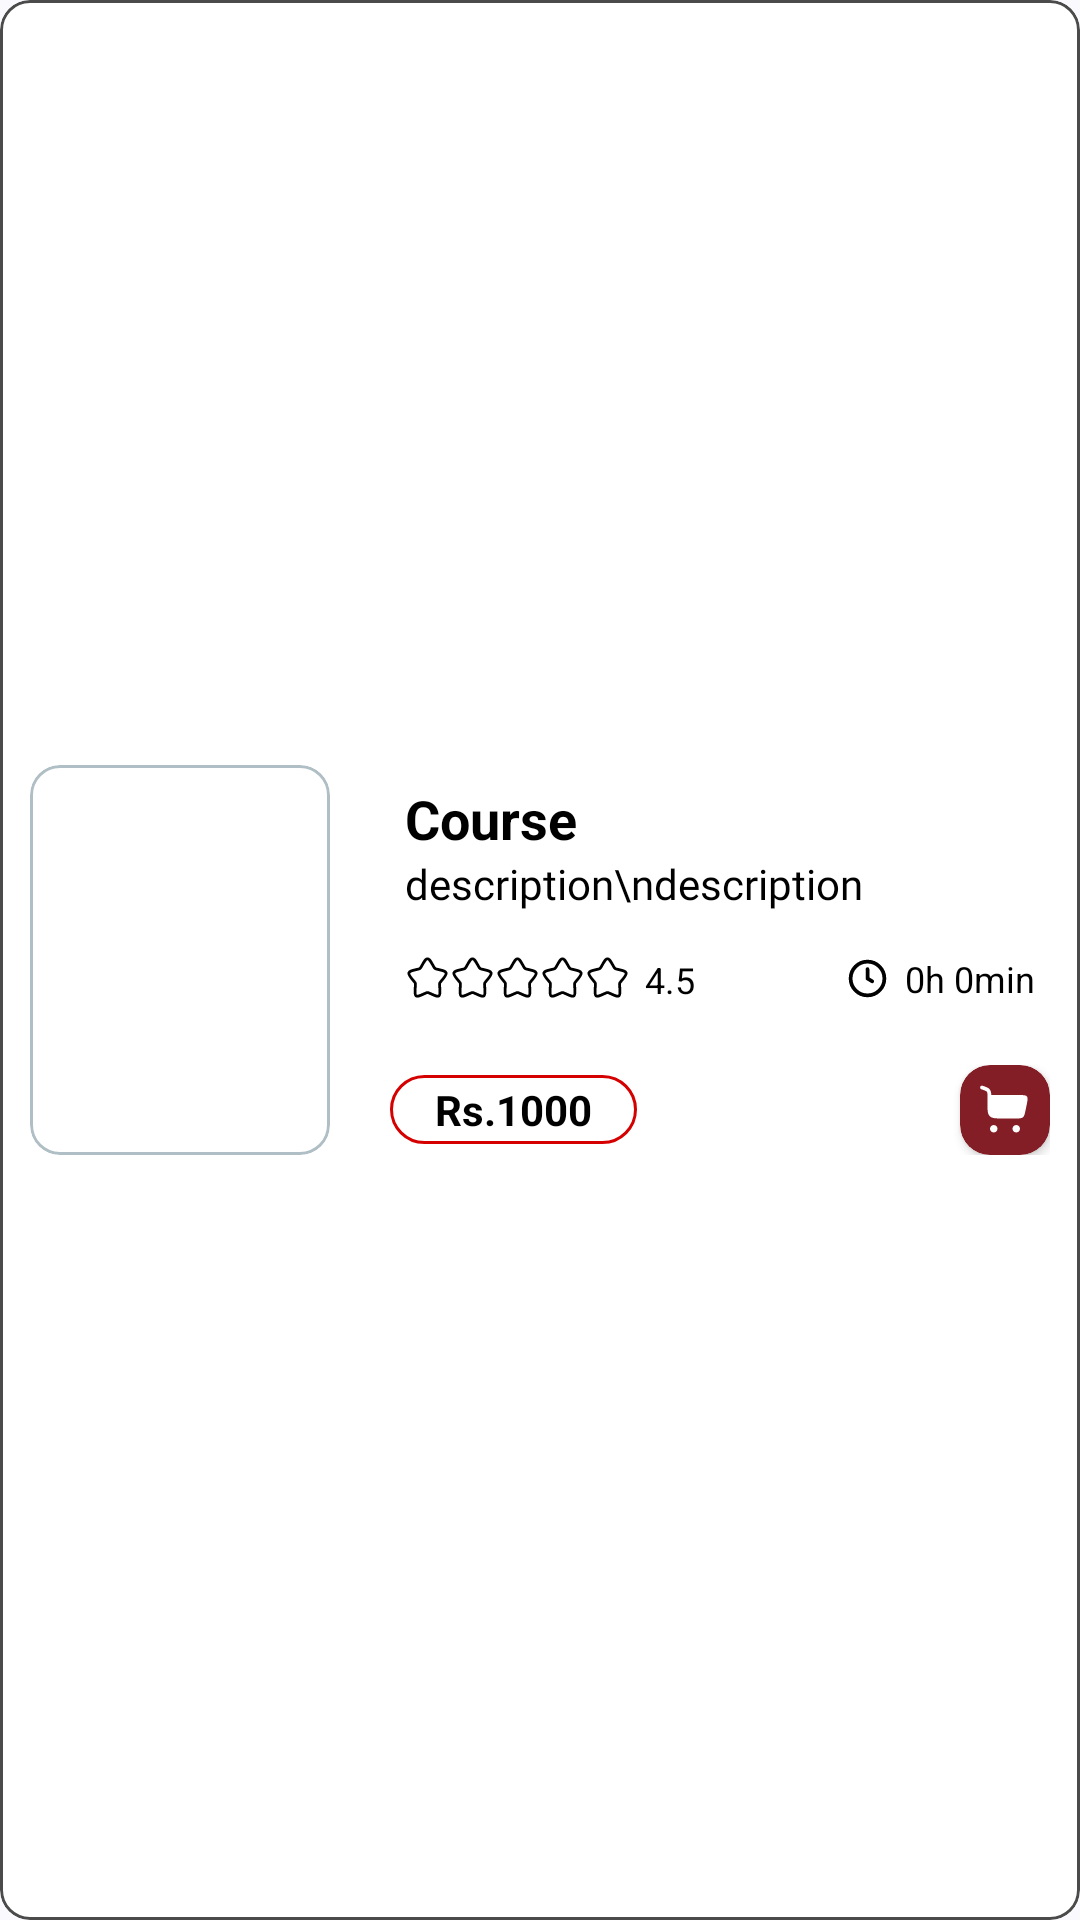

Icon click points for this 1080px x 1920px phone screenshot, format point (x, y):
cart minimalistic: point (1005, 1110)
clock: point (867, 978)
star: point (427, 977), point (472, 977), point (517, 977), point (562, 977), point (607, 977)
